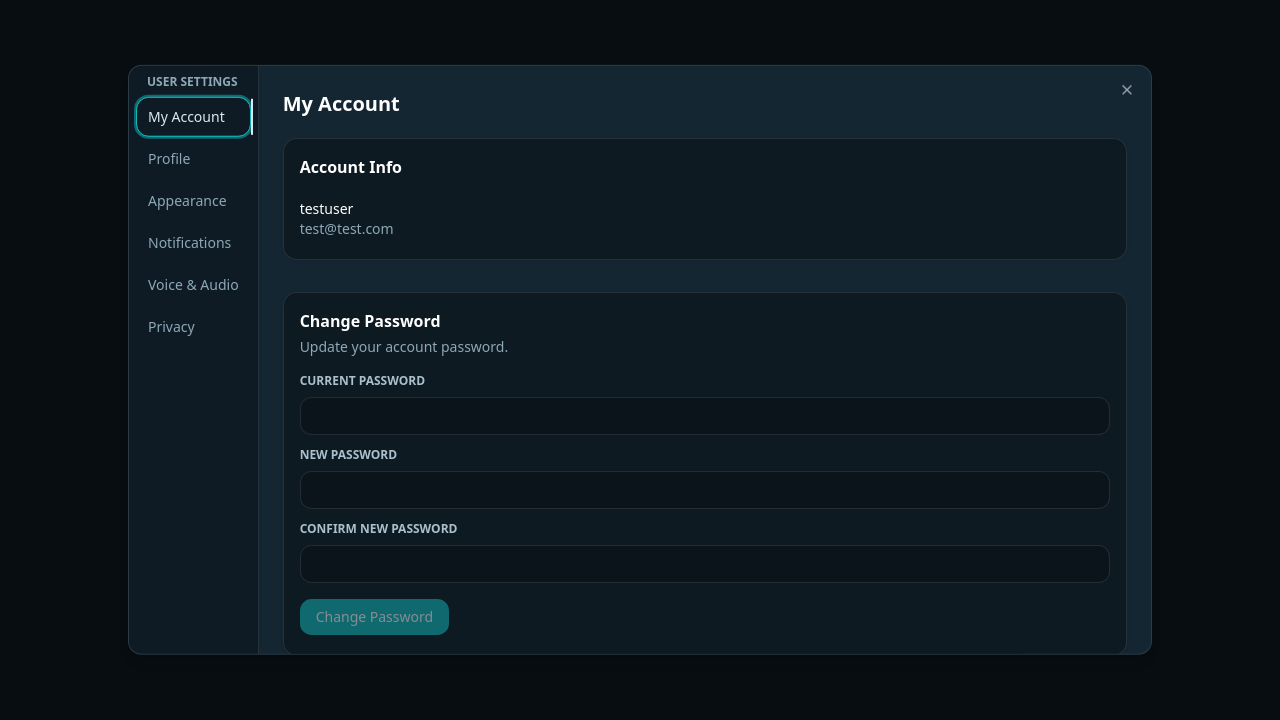
UserSettingsOverlay › switches to Appearance section on click
Click the tab "Appearance" at (193, 201), box [137,182,250,220]
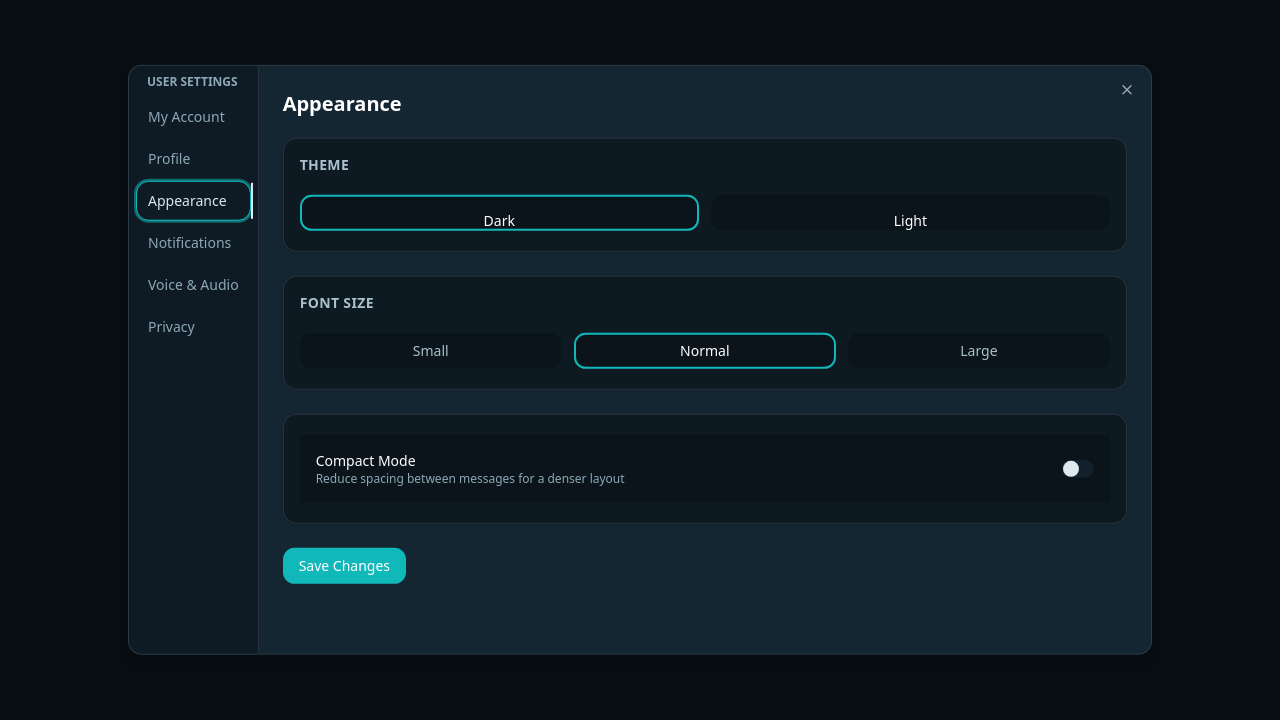
Result: the text "Theme" is shown at [300,155,349,174]
Result: the text "Font Size" is shown at [300,293,374,312]
Result: the heading "Compact Mode" is shown at [316,451,416,470]
